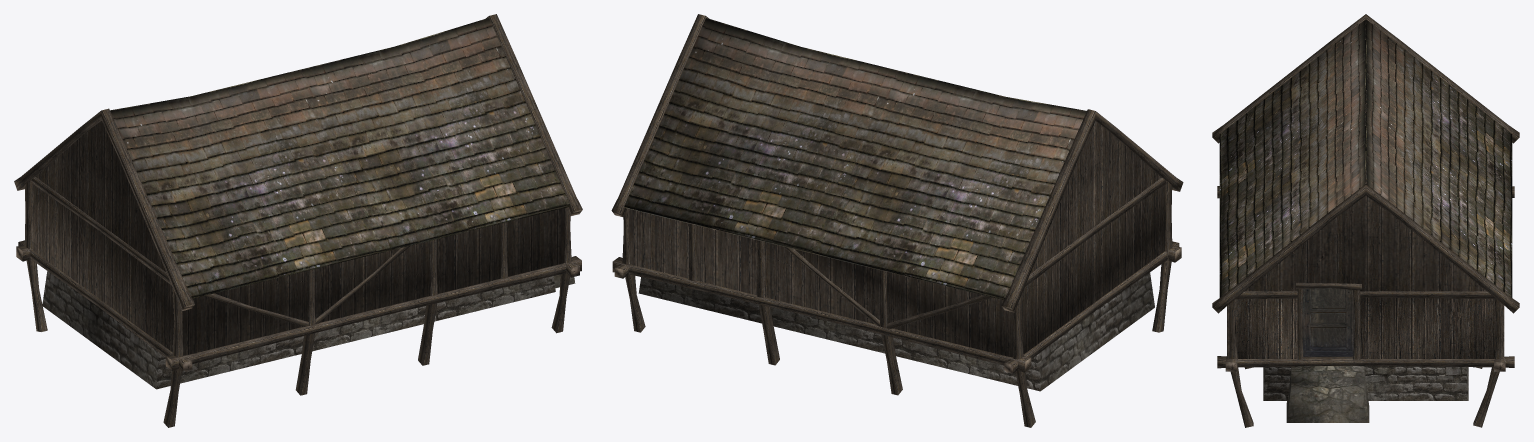
The model's file is gv_obj_oldcity_06.fbx.
3 views of the same model, side by side, from view 1: azimuth 30°, elevation 25°; view 2: azimuth 150°, elevation 25°; view 3: azimuth 270°, elevation 25° (orthographic). The views are drawn at different scales.
Visible parts, largest first — view 1: BASE; view 2: BASE; view 3: BASE.
Part boxes in pixels (x1,y1,x2,y2): BASE: [14, 14, 582, 427]; BASE: [611, 14, 1183, 427]; BASE: [1212, 14, 1519, 427].
Size of the model in its own units: 560 by 328 by 380.
